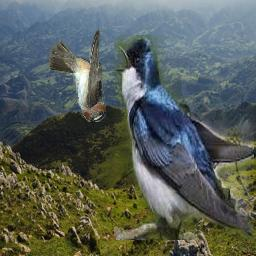Swallow: (114, 36, 254, 241), (50, 28, 107, 122)
